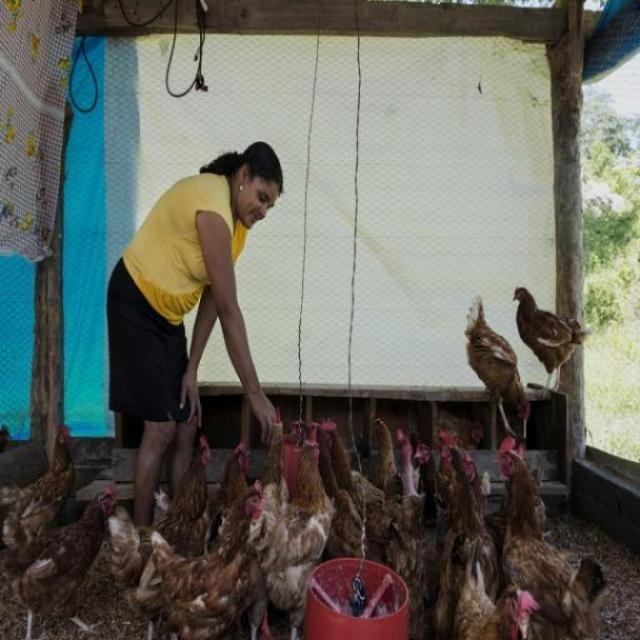Chicken: (493, 436, 609, 639), (134, 477, 269, 639), (108, 425, 213, 596), (0, 481, 109, 639), (259, 420, 334, 640), (0, 414, 82, 562), (459, 290, 534, 441), (446, 532, 543, 639), (327, 406, 387, 566), (177, 432, 248, 567), (252, 403, 292, 639), (311, 405, 366, 567), (503, 290, 585, 388), (431, 423, 494, 543), (367, 413, 405, 499), (407, 435, 440, 498), (463, 450, 490, 524)
